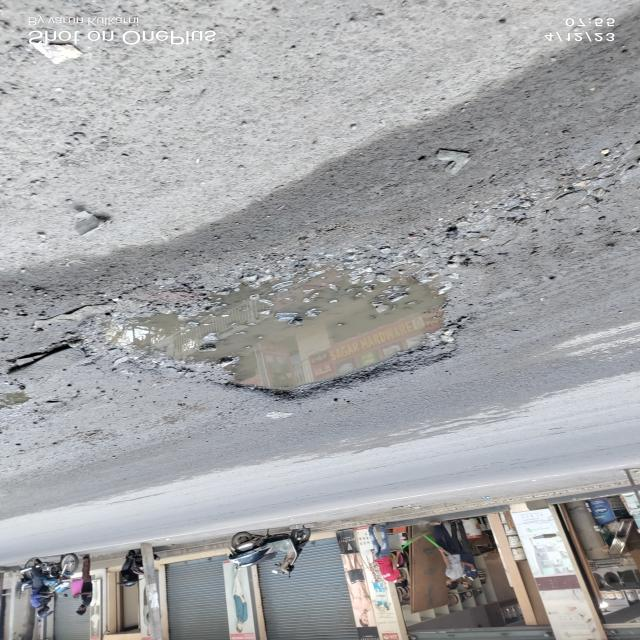Puddle pothole: (101, 260, 463, 414)
